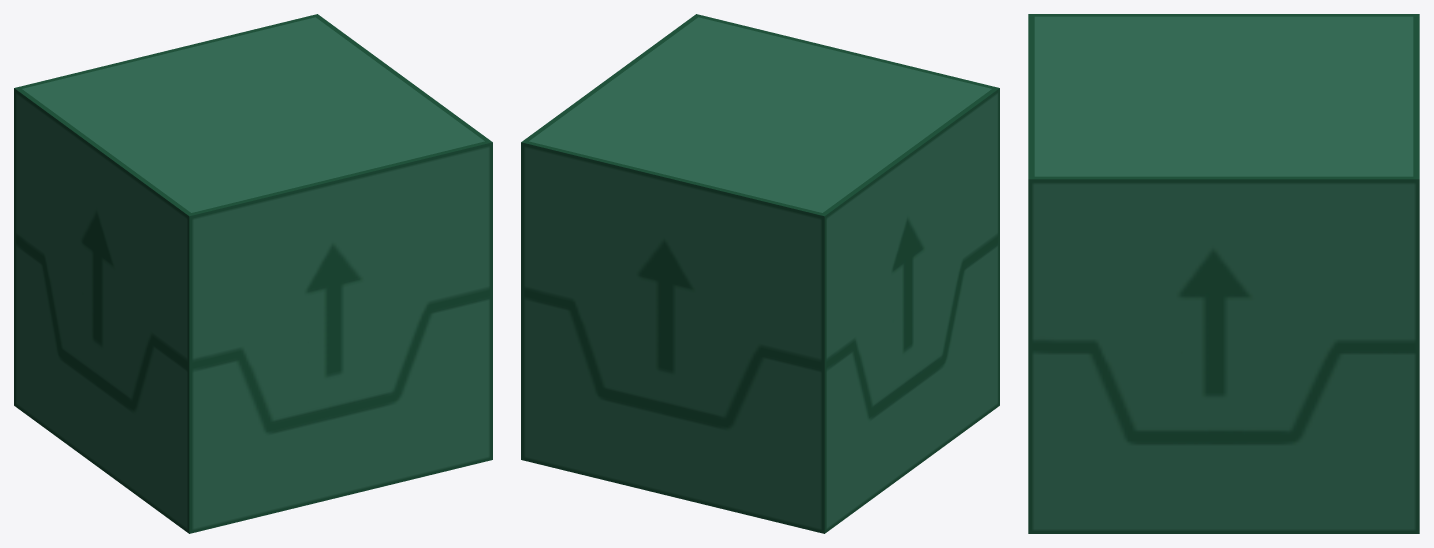
Rendered from Box_Green.fbx.
The picture shows the model from 3 angles, left to right: view 1: azimuth 30°, elevation 25°; view 2: azimuth 150°, elevation 25°; view 3: azimuth 270°, elevation 25°; orthographic projection. The views are drawn at different scales.
Parts seen in each view (by area): view 1: Cube.008; view 2: Cube.008; view 3: Cube.008.
Part boxes in pixels (box(x1,y1,x2,y2)): Cube.008: box(14, 14, 492, 533); Cube.008: box(521, 14, 999, 533); Cube.008: box(1028, 14, 1419, 533).
Bounding box in the file's own units: 100 × 100 × 100.
